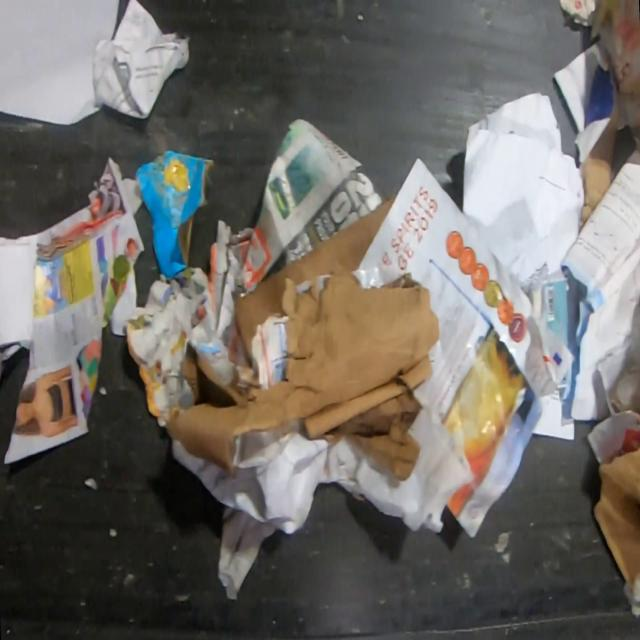cardboard: (164, 198, 440, 483), (585, 328, 640, 583), (133, 148, 216, 281), (578, 84, 636, 225)
